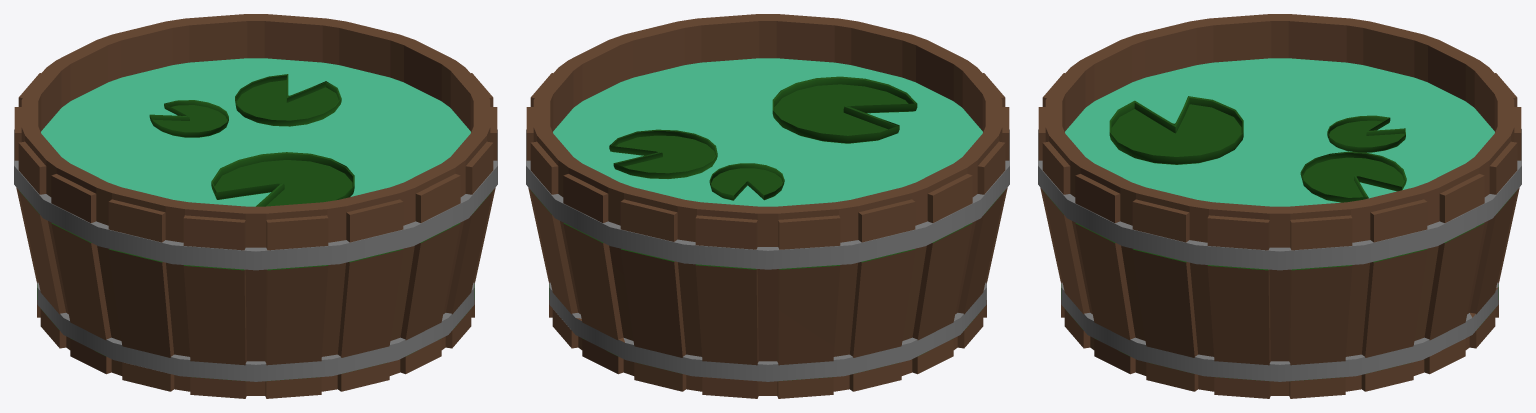
Rendered from Tonneau nenuphar.fbx.
The picture shows the model from 3 angles, left to right: view 1: azimuth 30°, elevation 25°; view 2: azimuth 150°, elevation 25°; view 3: azimuth 270°, elevation 25°; orthographic projection.
Parts seen in each view (by area): view 1: Cylinder021; view 2: Cylinder021; view 3: Cylinder021.
Part boxes in pixels (left/top/right/bottom): Cylinder021: left=14, top=14, right=497, bottom=398; Cylinder021: left=526, top=14, right=1009, bottom=398; Cylinder021: left=1038, top=14, right=1521, bottom=398.
Bounding box in the file's own units: 36.5 × 15.74 × 35.94.
